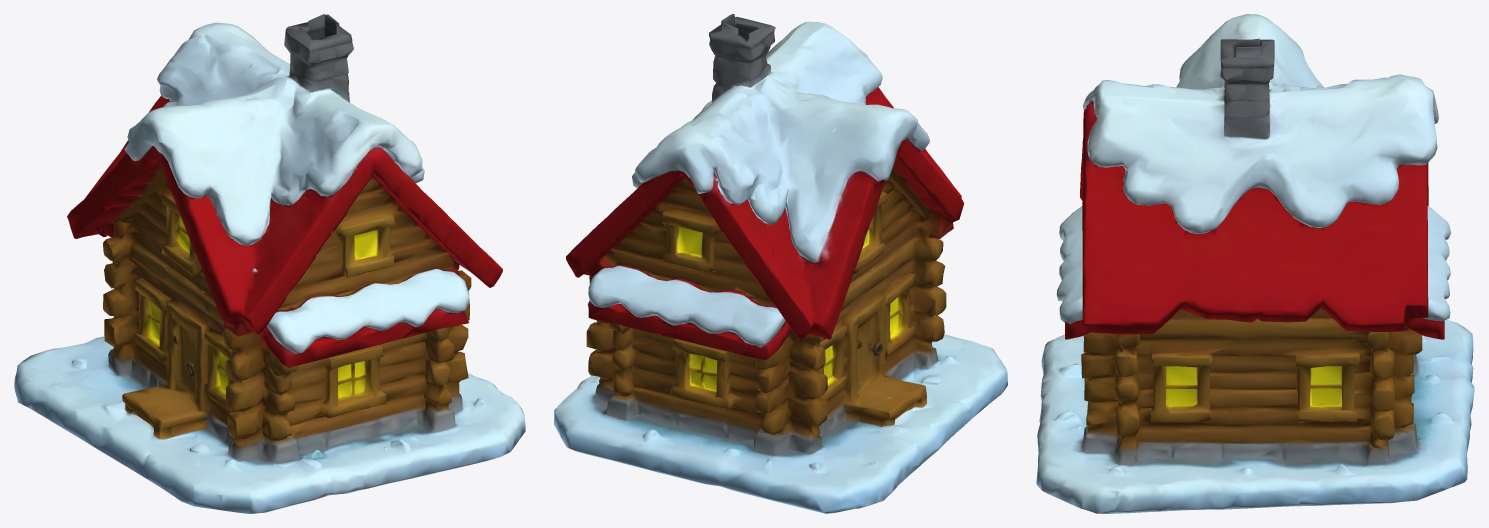
Rendered from hut.glb.
3 renders of one model, left to right at view 1: azimuth 30°, elevation 25°; view 2: azimuth 150°, elevation 25°; view 3: azimuth 270°, elevation 25°, orthographic. The views are drawn at different scales.
Visible parts, largest first — view 1: tripo_node_385f581a-23df-4d75-936d-5e49b729e806; view 2: tripo_node_385f581a-23df-4d75-936d-5e49b729e806; view 3: tripo_node_385f581a-23df-4d75-936d-5e49b729e806.
Part boxes in pixels (x1,y1,x2,y2): tripo_node_385f581a-23df-4d75-936d-5e49b729e806: [14, 14, 525, 513]; tripo_node_385f581a-23df-4d75-936d-5e49b729e806: [554, 14, 1007, 513]; tripo_node_385f581a-23df-4d75-936d-5e49b729e806: [1036, 14, 1474, 513].
Size of the model in its own units: 0.977 by 1 by 0.9741.
Materials: 1 (1 with a texture image).
